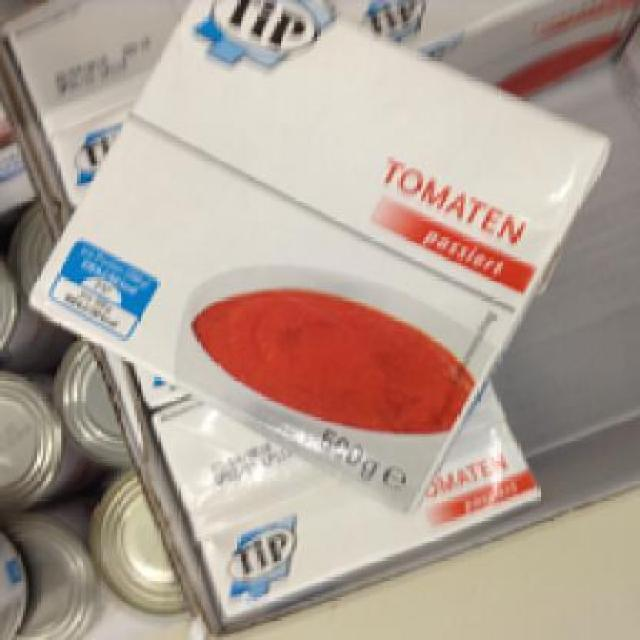Tomato Sauce: (21, 0, 612, 515)
